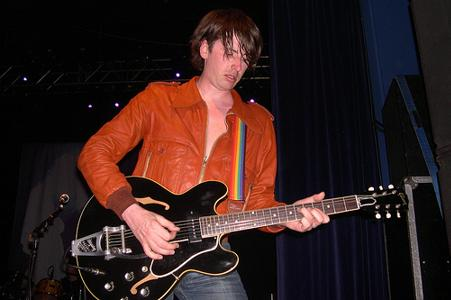person: (77, 9, 332, 298)
